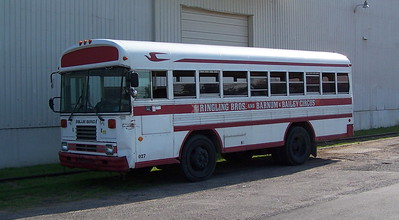bus: (48, 38, 354, 182)
